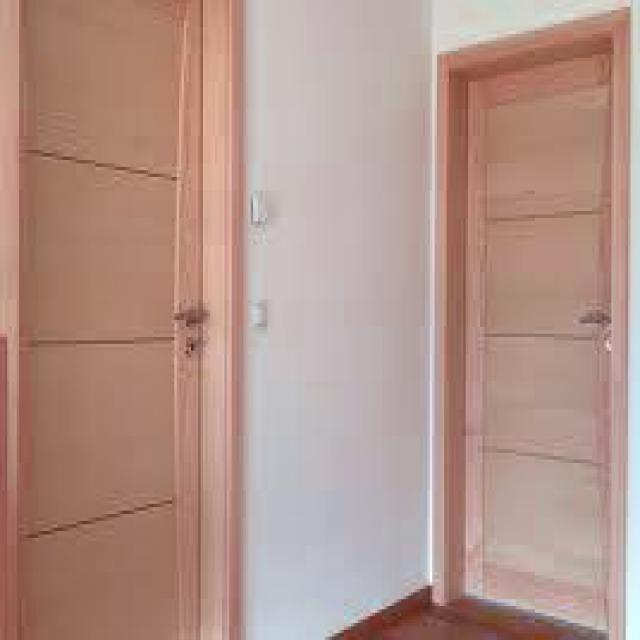door: (5, 0, 233, 638), (456, 43, 616, 632)
